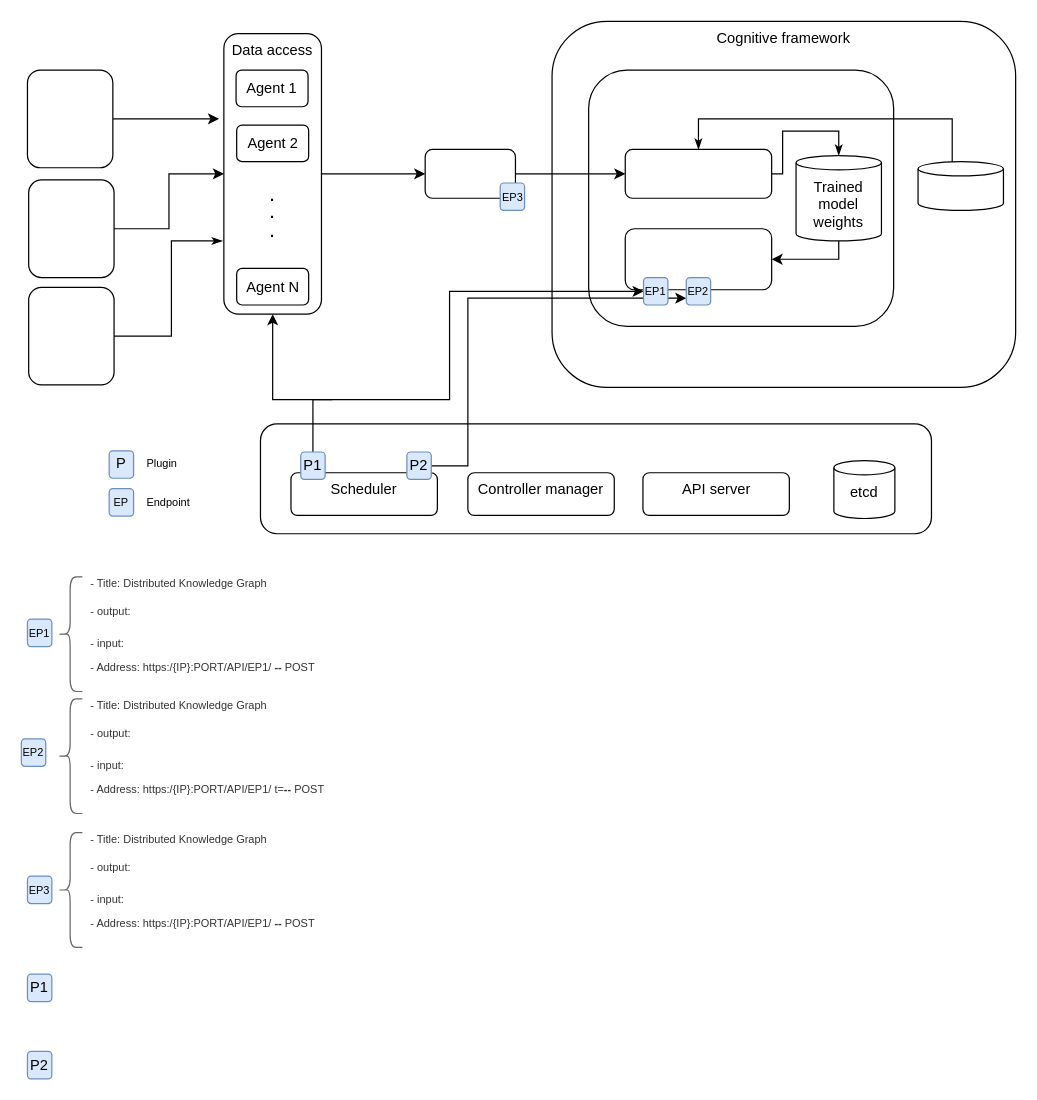
Some shapes in this 1037 by 1100 pixel diagram are drawn without their labels. The box of each missing label's shape, as (x1, y1, x2, y2) in pixels:
AI/ML modules: (587, 69, 894, 326)
Configs: (917, 160, 1003, 210)
DKG: (424, 148, 515, 198)
Inference/prediction: (624, 228, 772, 290)
K8s components: (259, 423, 931, 534)
Kafka: (26, 69, 113, 168)
Synthetic Data Generator: (27, 179, 114, 278)
Telemetry & monitoring: (27, 286, 114, 385)
Training: (624, 148, 772, 198)
